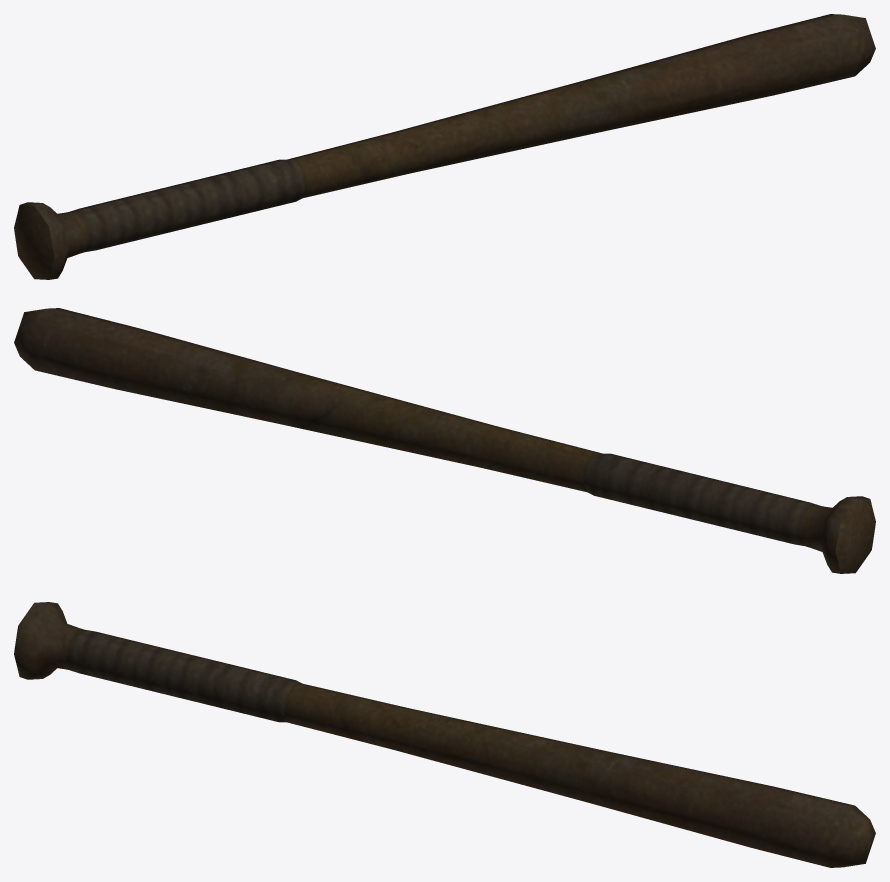
File: baseball_bat_mx_1.dae
The picture shows the model from 3 angles, top to bottom: view 1: azimuth 30°, elevation 25°; view 2: azimuth 150°, elevation 25°; view 3: azimuth 330°, elevation 25°; orthographic projection.
Visible parts, largest first — view 1: baseball_bat_mx_1; view 2: baseball_bat_mx_1; view 3: baseball_bat_mx_1.
Part boxes in pixels (x1,y1,x2,y2): baseball_bat_mx_1: [14, 14, 875, 279]; baseball_bat_mx_1: [14, 308, 875, 573]; baseball_bat_mx_1: [14, 602, 875, 867].
Bounding box in the file's own units: 1.24 × 0.1053 × 0.1053.
1 material, 1 textured.
